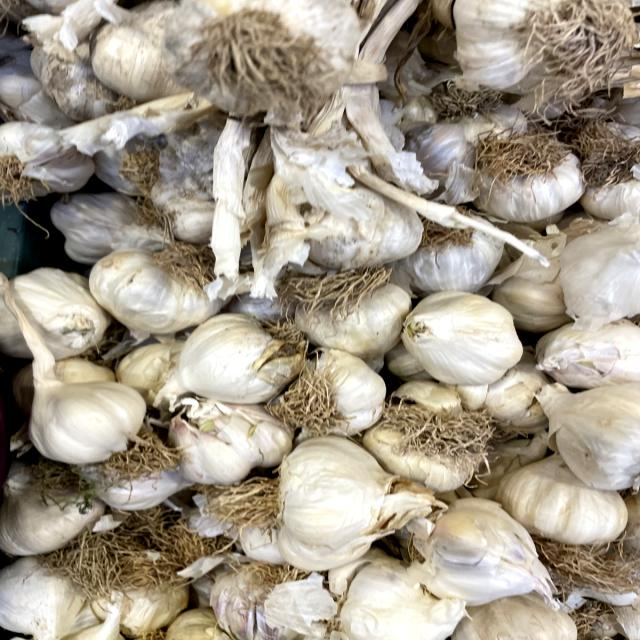garlic: (228, 436, 435, 555), (0, 351, 163, 469), (392, 283, 536, 391)
